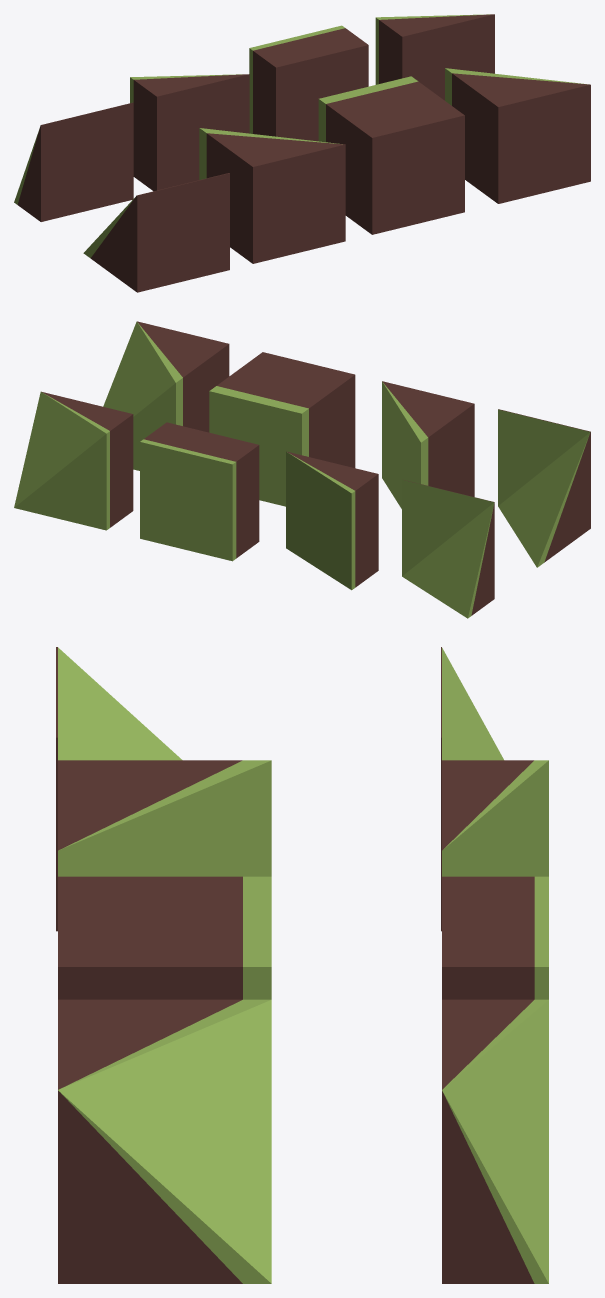
The model's file is ground.fbx.
3 renders of one model, top to bottom at view 1: azimuth 30°, elevation 25°; view 2: azimuth 150°, elevation 25°; view 3: azimuth 270°, elevation 25°, orthographic. The views are drawn at different scales.
Visible parts, largest first — view 1: Cube, Cube.001, Cube.002, Cube.003, Cube.004, Cube.005, Cube.007, Cube.006; view 2: Cube.007, Cube, Cube.006, Cube.003, Cube.004, Cube.005, Cube.001, Cube.002; view 3: Cube.001, Cube.006, Cube, Cube.002, Cube.007, Cube.005, Cube.003, Cube.004.
Part boxes in pixels (bbox=[...]): Cube: bbox=[318, 76, 464, 234]; Cube.001: bbox=[445, 68, 590, 203]; Cube.002: bbox=[199, 128, 345, 263]; Cube.003: bbox=[83, 173, 229, 292]; Cube.004: bbox=[14, 102, 133, 221]; Cube.005: bbox=[130, 74, 249, 191]; Cube.007: bbox=[249, 25, 368, 141]; Cube.006: bbox=[375, 14, 494, 100]; Cube.007: bbox=[140, 422, 259, 561]; Cube: bbox=[209, 352, 355, 506]; Cube.006: bbox=[14, 391, 133, 530]; Cube.003: bbox=[498, 409, 590, 567]; Cube.004: bbox=[402, 479, 494, 618]; Cube.005: bbox=[286, 451, 378, 590]; Cube.001: bbox=[103, 321, 229, 470]; Cube.002: bbox=[382, 381, 474, 508]; Cube.001: bbox=[58, 999, 271, 1283]; Cube.006: bbox=[442, 999, 548, 1283]; Cube: bbox=[58, 876, 271, 999]; Cube.002: bbox=[58, 760, 271, 876]; Cube.007: bbox=[442, 876, 548, 999]; Cube.005: bbox=[442, 760, 548, 876]; Cube.003: bbox=[56, 647, 182, 931]; Cube.004: bbox=[441, 647, 503, 931].
Size of the model in its own units: 980 by 200 by 461.
